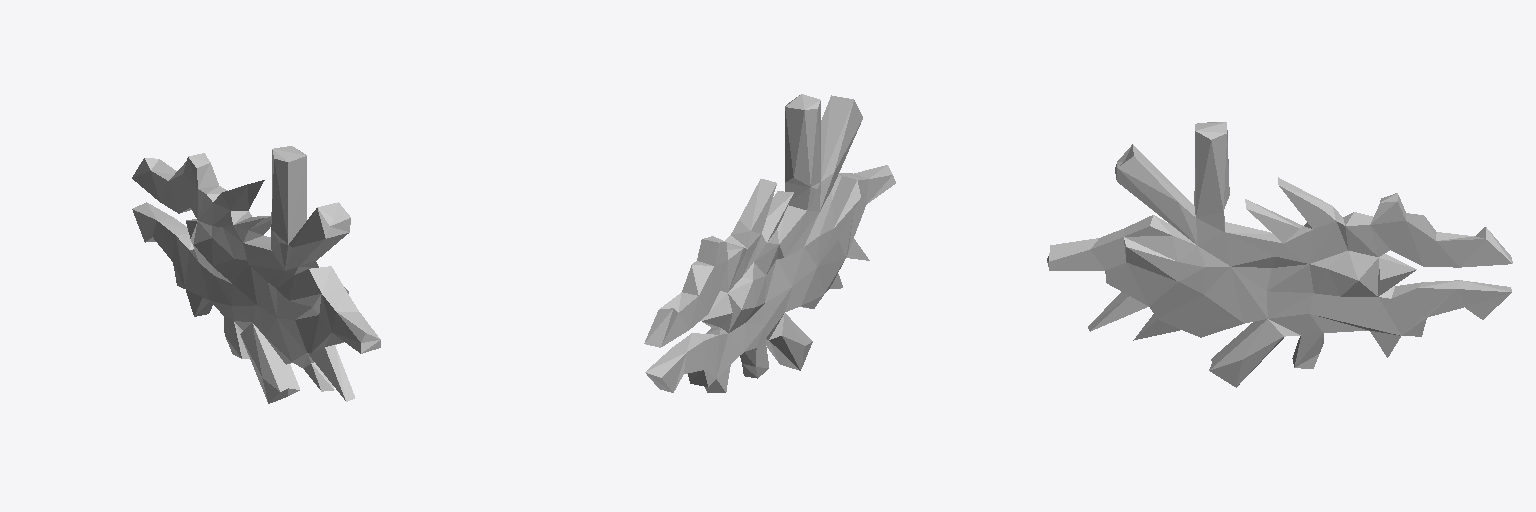
File: tripo_convert_5d50dff4-44bf-4b88-acc0-bb6459007ec1.obj
3 renders of one model, left to right at view 1: azimuth 30°, elevation 25°; view 2: azimuth 150°, elevation 25°; view 3: azimuth 270°, elevation 25°, orthographic.
Visible parts, largest first — view 1: tripo_node_5d50dff4-44bf-4b88-acc0-bb[number redacted]ec1; view 2: tripo_node_5d50dff4-44bf-4b88-acc0-bb[number redacted]ec1; view 3: tripo_node_5d50dff4-44bf-4b88-acc0-bb[number redacted]ec1.
Part boxes in pixels (bbox=[...]): tripo_node_5d50dff4-44bf-4b88-acc0-bb[number redacted]ec1: bbox=[132, 146, 380, 403]; tripo_node_5d50dff4-44bf-4b88-acc0-bb[number redacted]ec1: bbox=[644, 94, 895, 392]; tripo_node_5d50dff4-44bf-4b88-acc0-bb[number redacted]ec1: bbox=[1047, 122, 1512, 387].
Bounding box in the file's own units: 0.0911 × 0.6142 × 1.